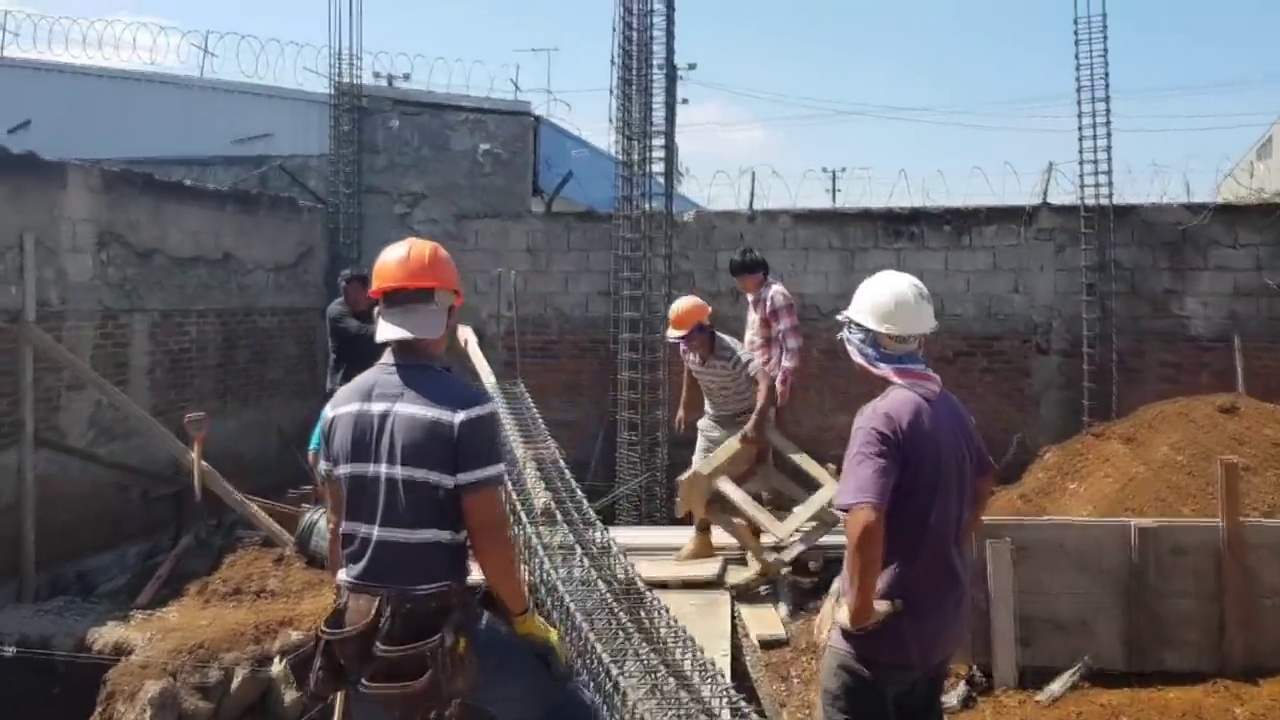helmet: (841, 272, 943, 341), (668, 301, 716, 345)
helmet-off: (729, 251, 773, 297), (336, 267, 370, 305)
helmet-on: (828, 270, 946, 399), (355, 234, 461, 365), (668, 301, 720, 355)
person: (307, 234, 554, 718), (821, 267, 996, 720), (667, 302, 770, 567), (728, 253, 815, 424), (321, 263, 373, 413)
